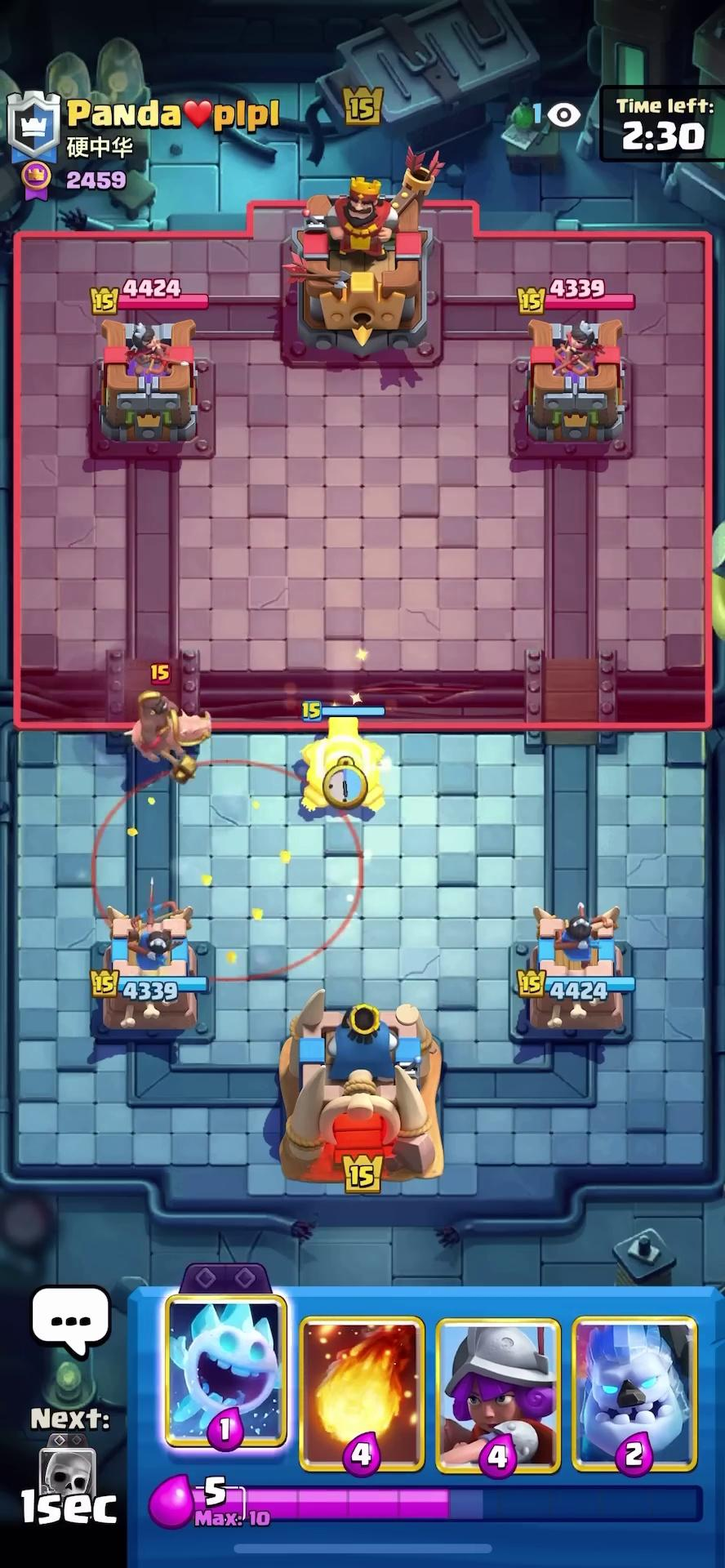cannon: (282, 700, 404, 815)
